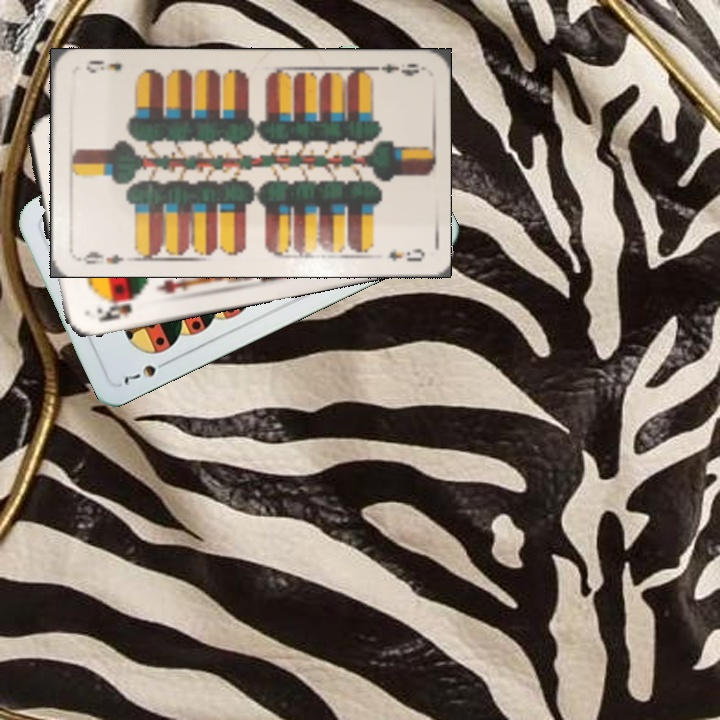E9: (365, 60, 424, 79), (75, 247, 127, 266)
S7: (119, 356, 173, 387)
SK: (93, 292, 143, 324)
